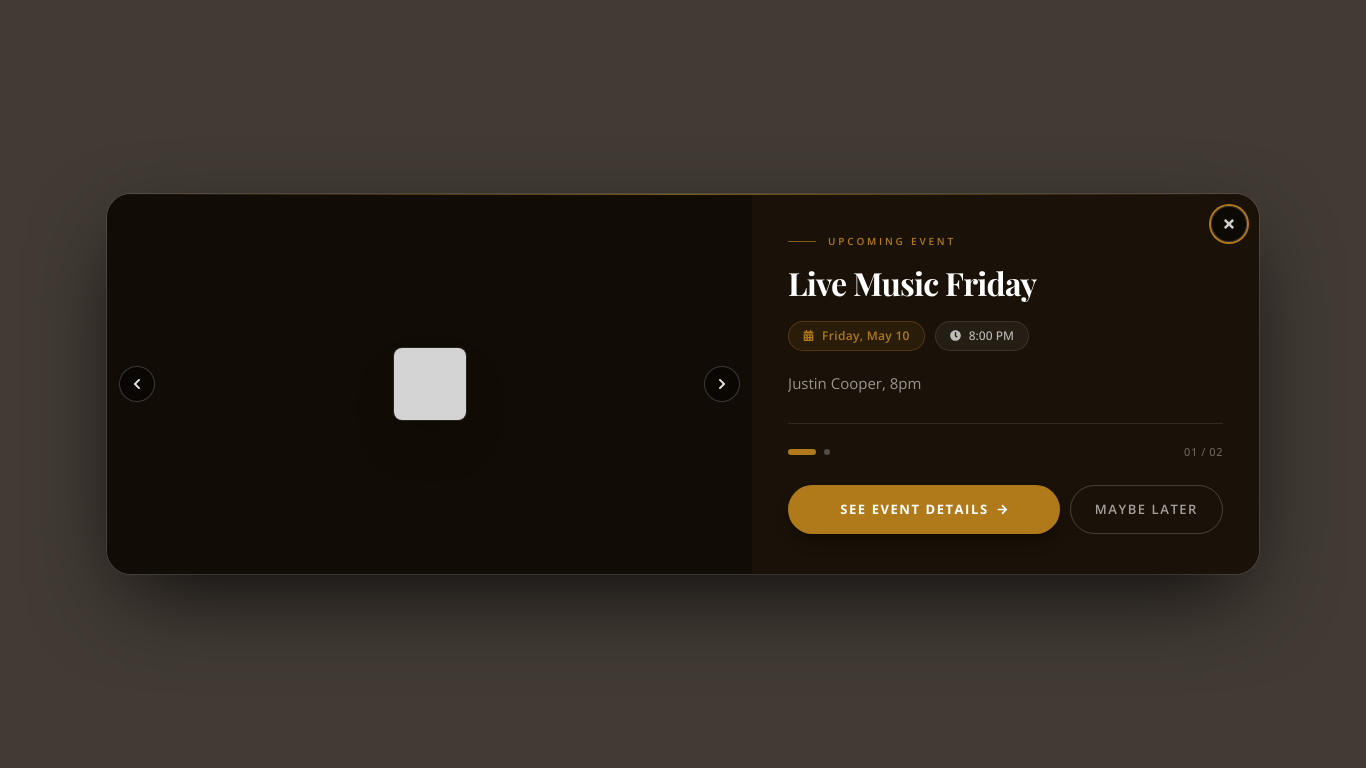
Test case: automatic rotation › pauses while the pointer rests on the panel
This screenshot has width=1366, height=768.
Hover over the dialog at coordinates (683, 384), box [107, 194, 1259, 574]
expect the heading "Live Music Friday" is shown: met, box [788, 261, 1036, 304]
Move the pointer off the dialog, box [107, 194, 1259, 574]
Wait 10500 ms
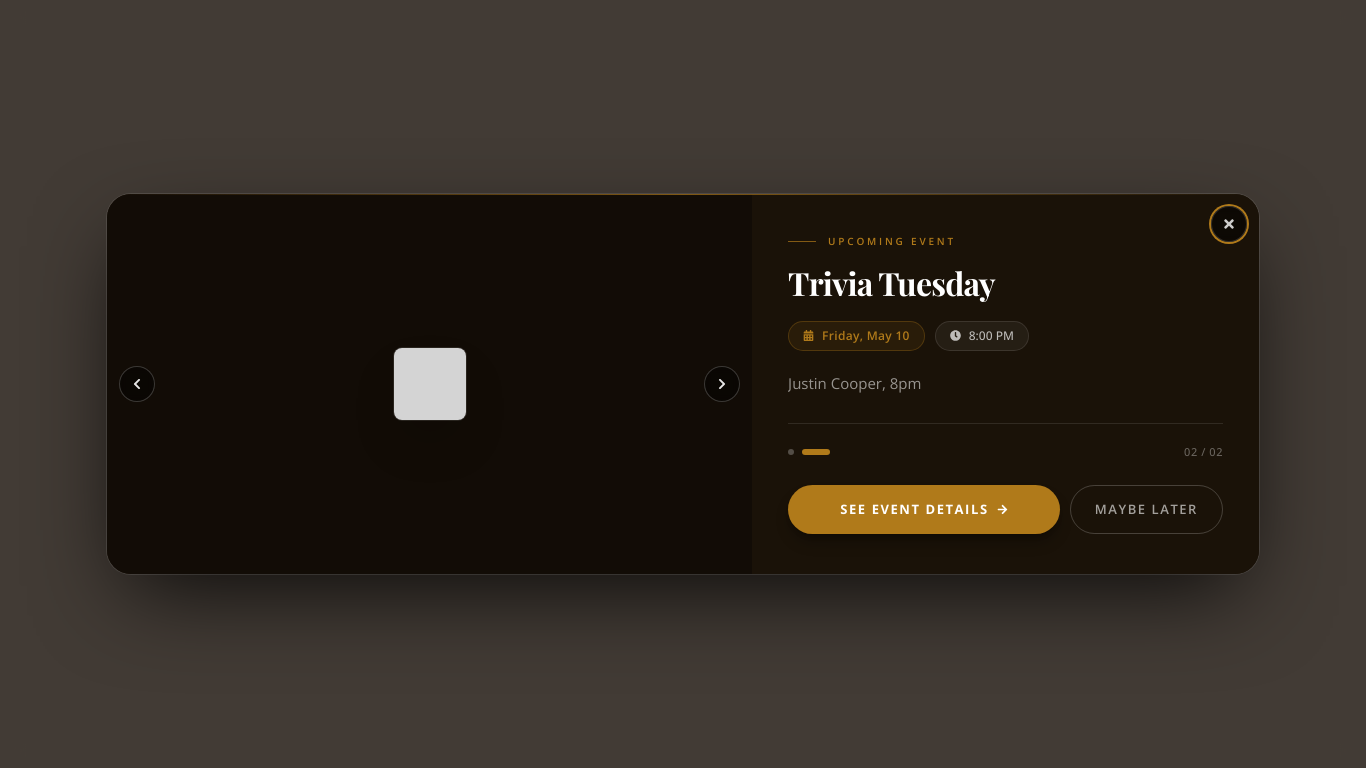
expect the heading "Trivia Tuesday" is shown: met, box [788, 261, 995, 304]
